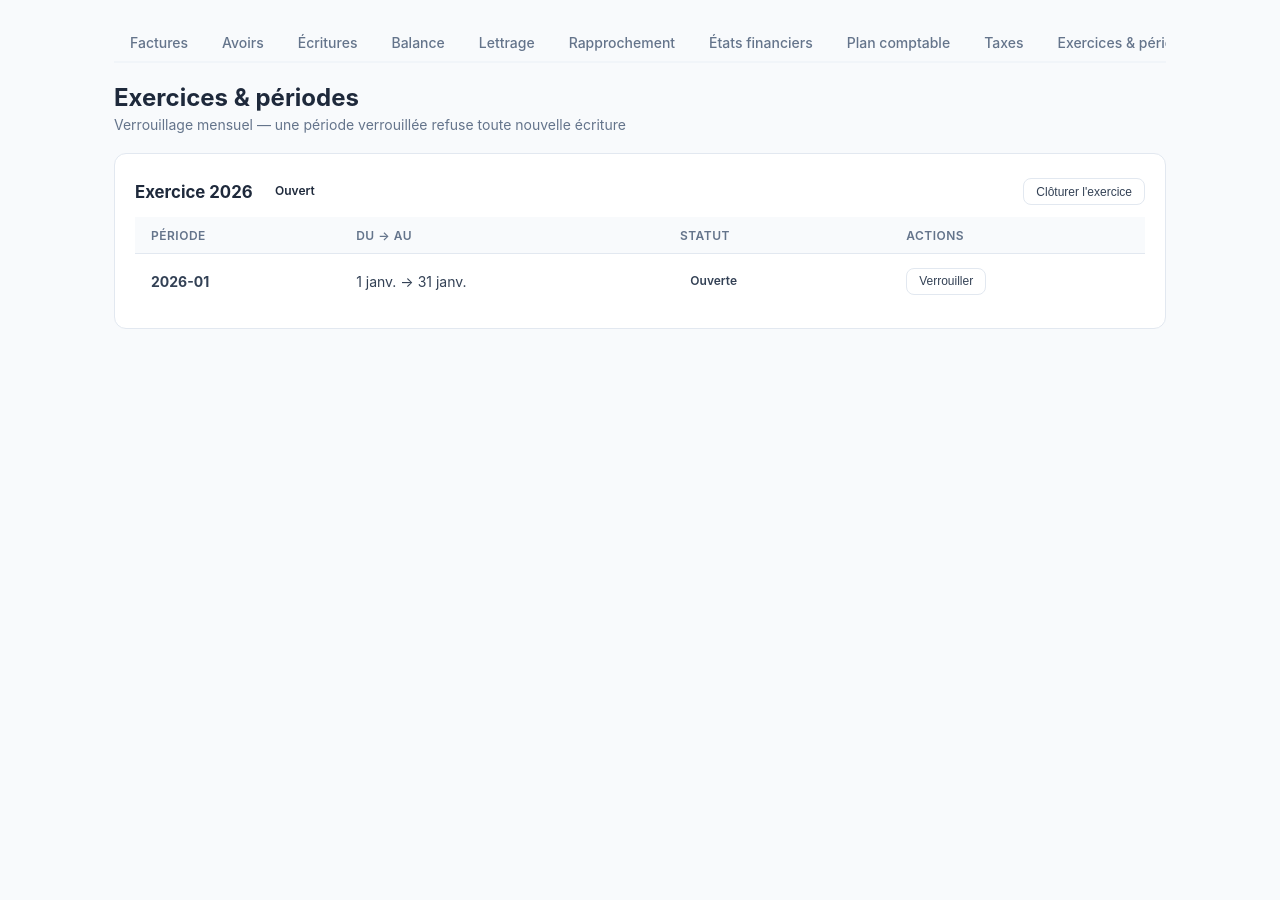
Test case: PeriodsView — clôture › closes an open fiscal year and surfaces the result
The image size is (1280, 900).
Click the button with test id "close-fy-2026": click(1084, 192) [1023, 178, 1145, 205]
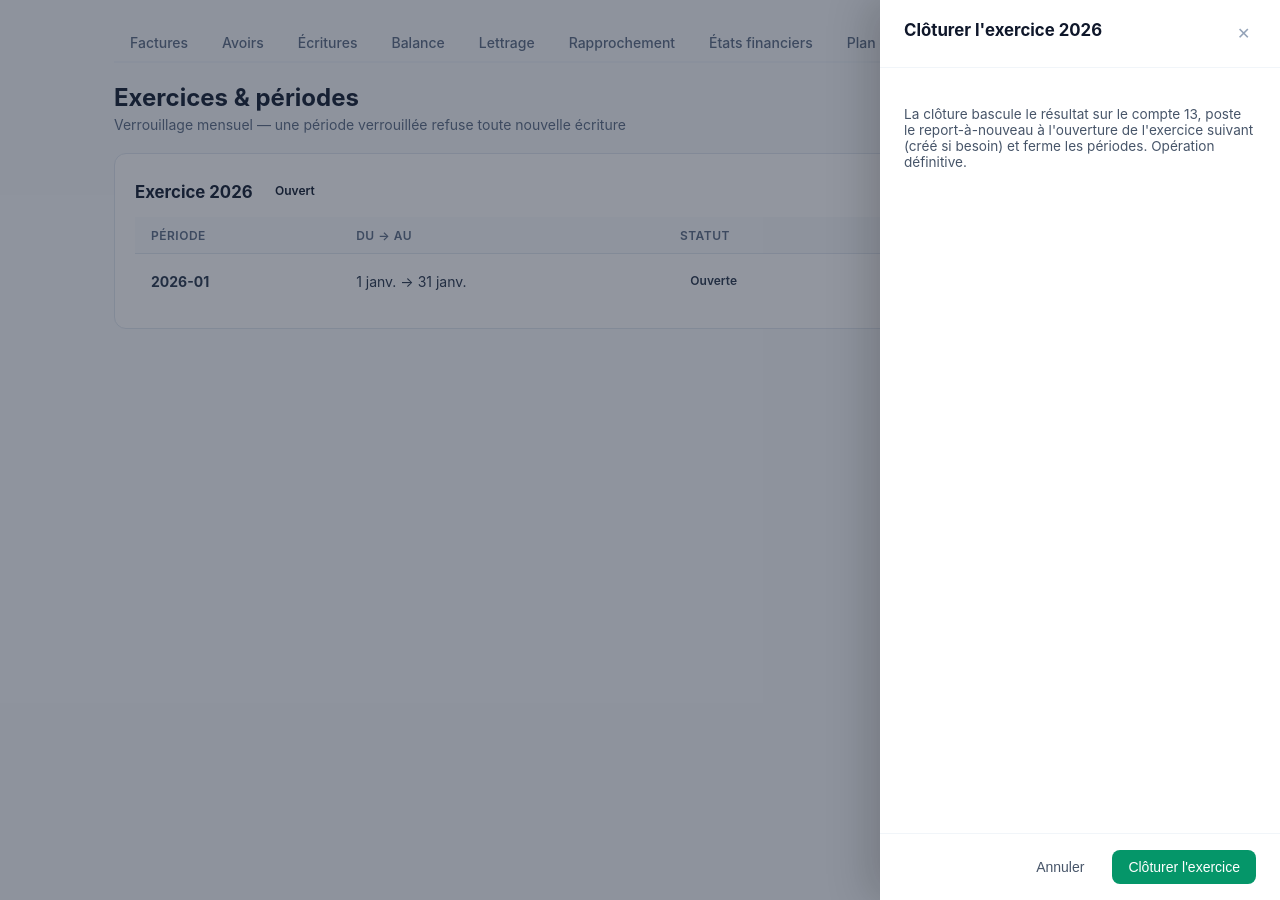
Click the button with test id "close-submit": click(1184, 867) [1112, 850, 1256, 884]
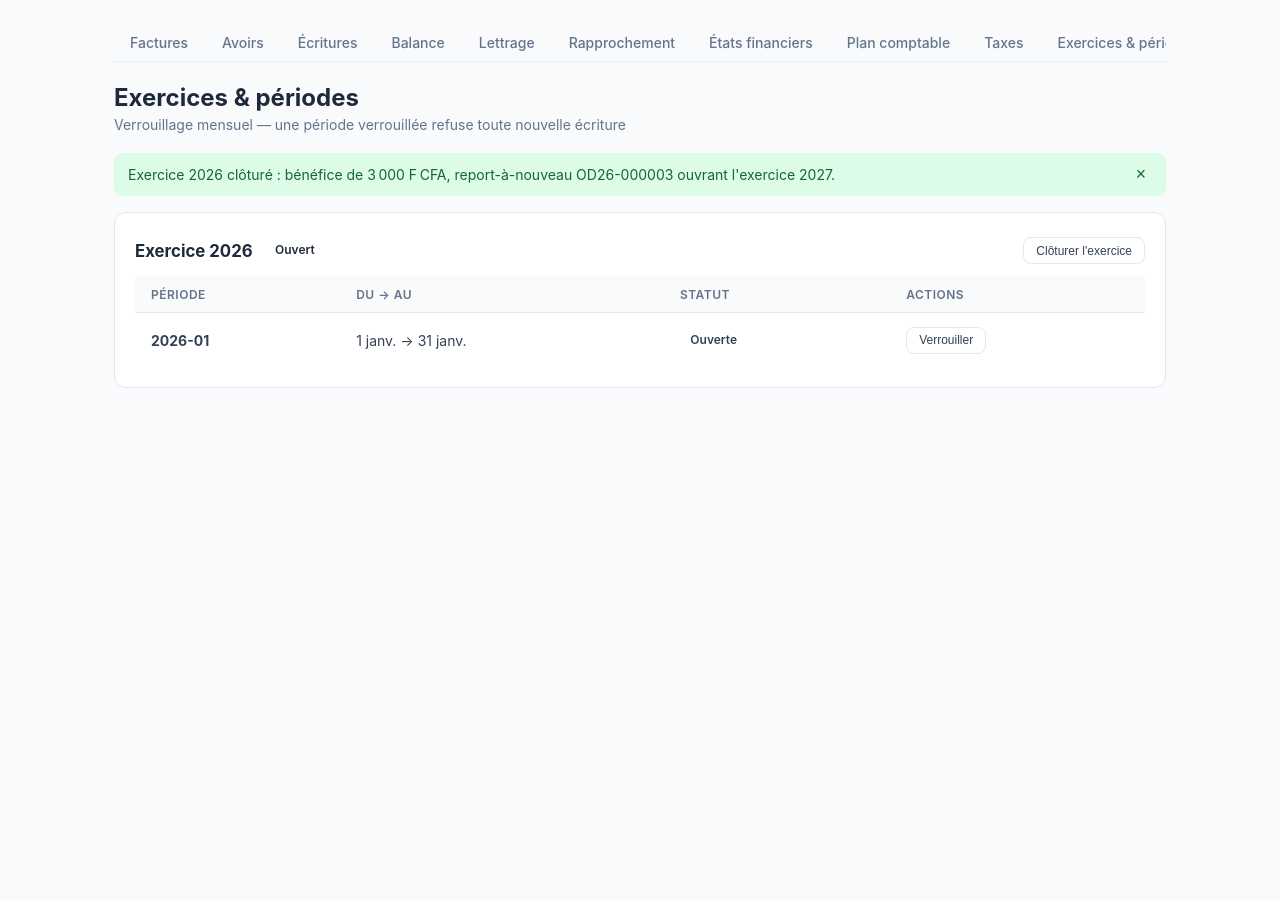
expect the message with test id "close-success" is shown: met, box [114, 153, 1166, 196]
expect the message with test id "close-success" shows "2027": met, box [128, 166, 835, 183]
expect the message with test id "close-success" shows "OD26-000003": met, box [128, 166, 835, 183]
